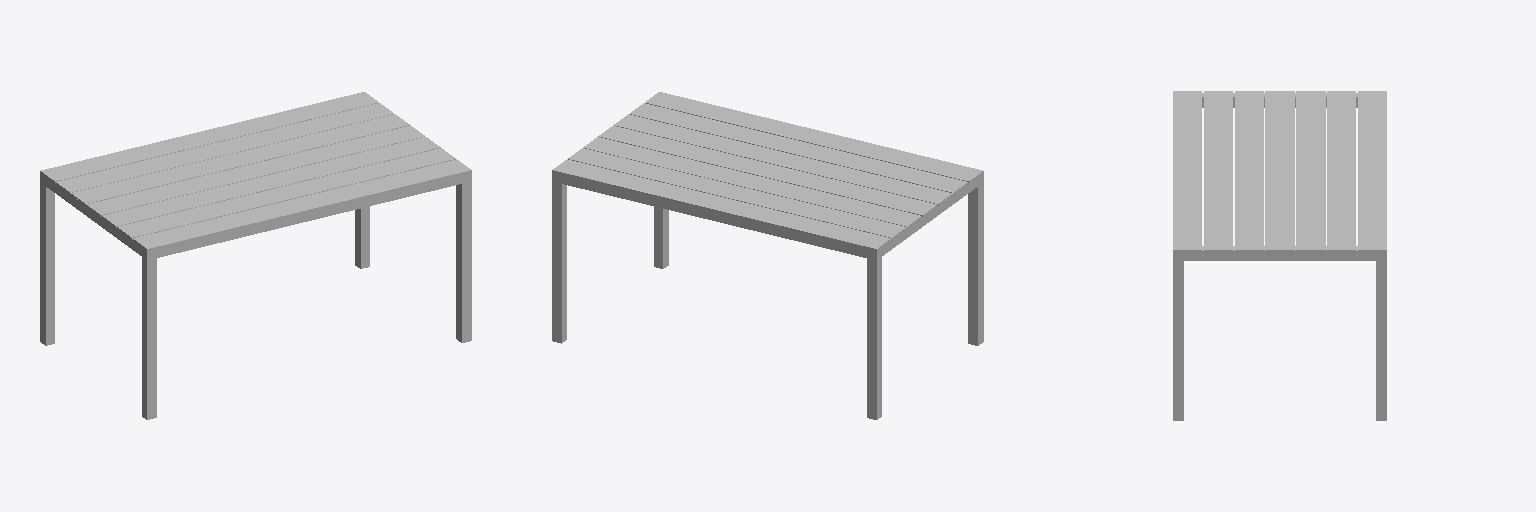
The model's file is ellastic-plast-provanse.obj.
The picture shows the model from 3 angles: view 1: azimuth 30°, elevation 25°; view 2: azimuth 150°, elevation 25°; view 3: azimuth 270°, elevation 25°; orthographic projection.
Parts seen in each view (by area): view 1: Cube.011_Cube.012; view 2: Cube.011_Cube.012; view 3: Cube.011_Cube.012.
Boxes of the visible parts, x1,y1,x2,y2 form: Cube.011_Cube.012: [40, 92, 471, 419]; Cube.011_Cube.012: [552, 92, 983, 419]; Cube.011_Cube.012: [1173, 91, 1386, 420].
Bounding box in the file's own units: 2.8 × 1.41 × 1.6.